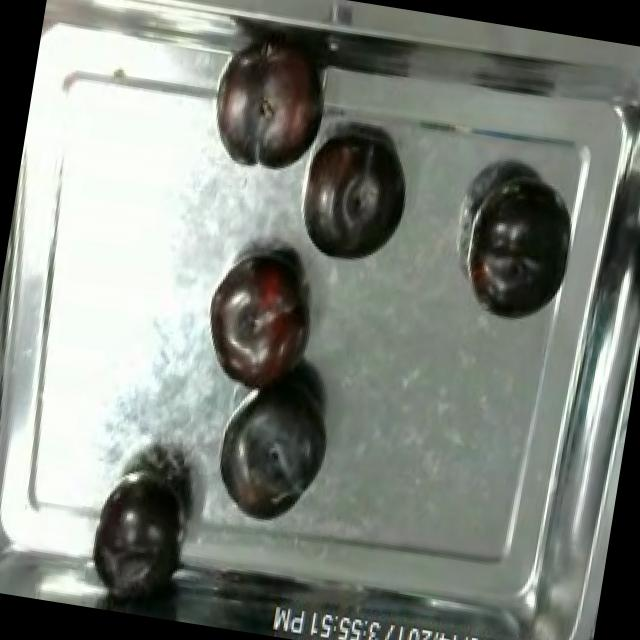Fruit: (204, 368, 342, 536), (195, 239, 328, 408), (202, 26, 338, 186), (454, 172, 586, 336), (288, 127, 414, 274)
